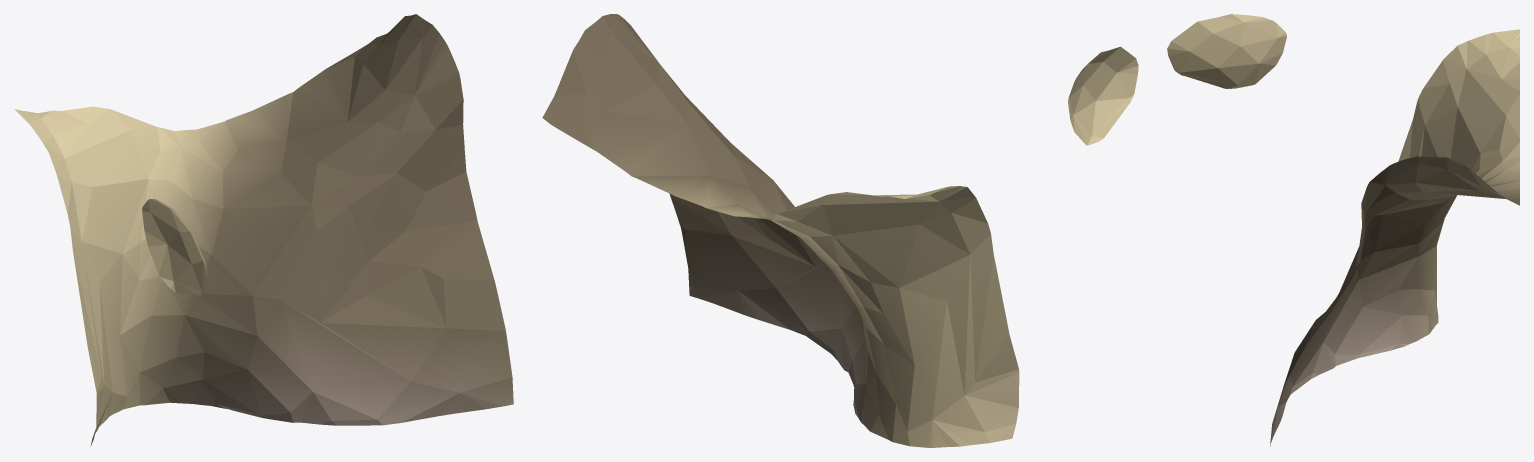
Rendered from bisect-7-2-4.gltf.
3 views of the same model, side by side, from view 1: azimuth 30°, elevation 25°; view 2: azimuth 150°, elevation 25°; view 3: azimuth 270°, elevation 25° (orthographic). The views are drawn at different scales.
Visible parts, largest first — view 1: bisect-7-2-4; view 2: bisect-7-2-4; view 3: bisect-7-2-4.
Boxes of the visible parts, box(x1,y1,x2,y2) form: bisect-7-2-4: box(15, 14, 513, 446); bisect-7-2-4: box(542, 14, 1138, 447); bisect-7-2-4: box(1167, 14, 1519, 446).
Size of the model in its own units: 20 by 16.9 by 18.53.
